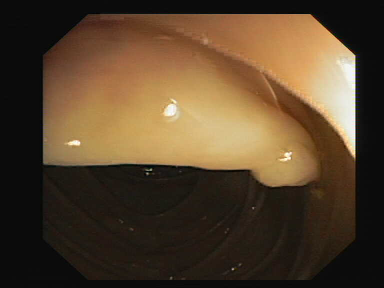polyp: (117, 62, 327, 187)
